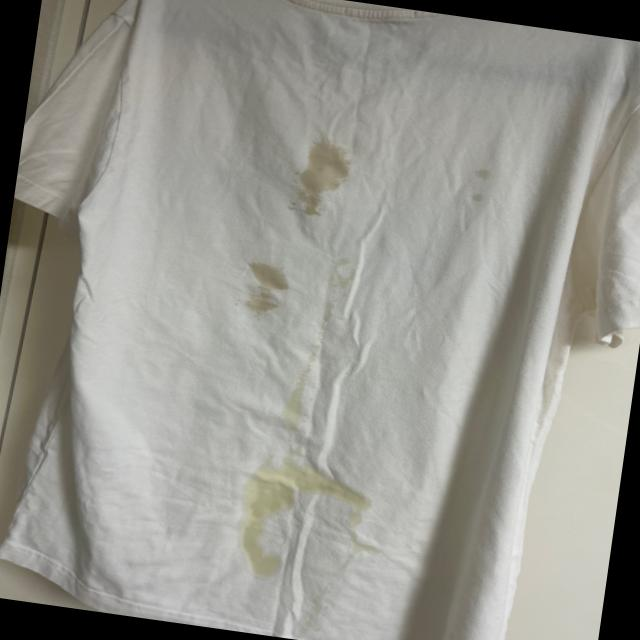stain: (244, 451, 380, 518), (284, 136, 352, 240), (233, 492, 300, 582), (240, 260, 306, 328), (280, 353, 320, 436), (314, 254, 362, 306), (458, 166, 497, 204)
